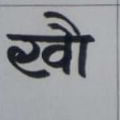o_matra: (62, 11, 93, 75)
